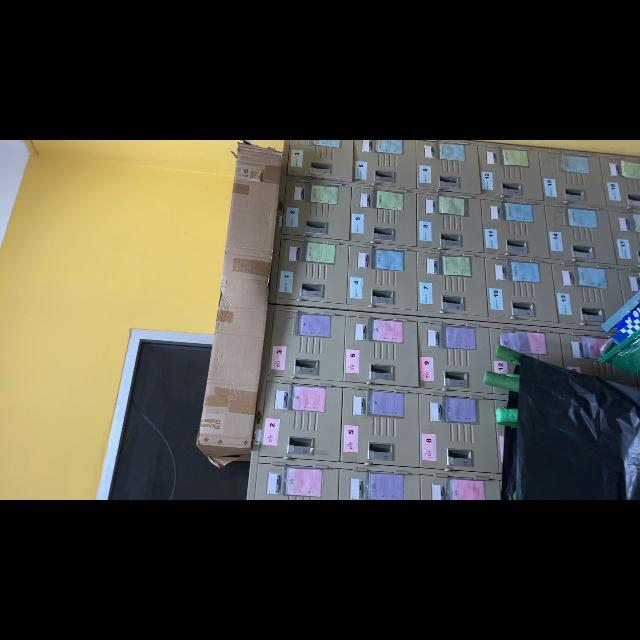cardboard_box: (192, 140, 284, 474)
